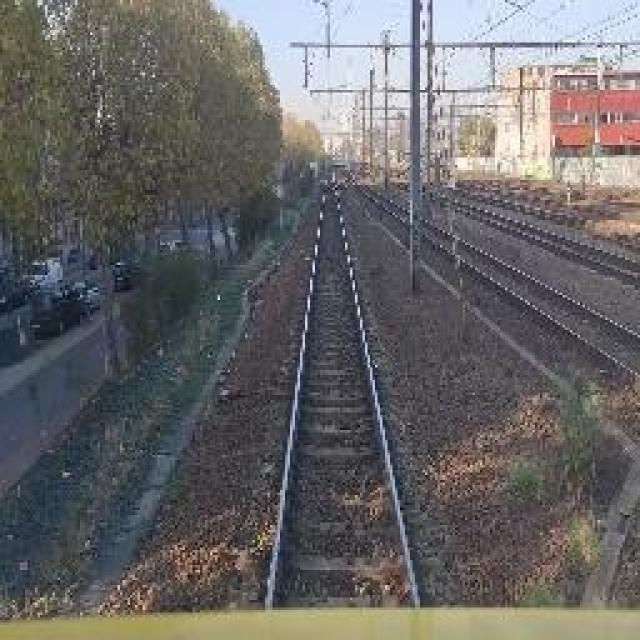rail: (239, 170, 462, 610)
